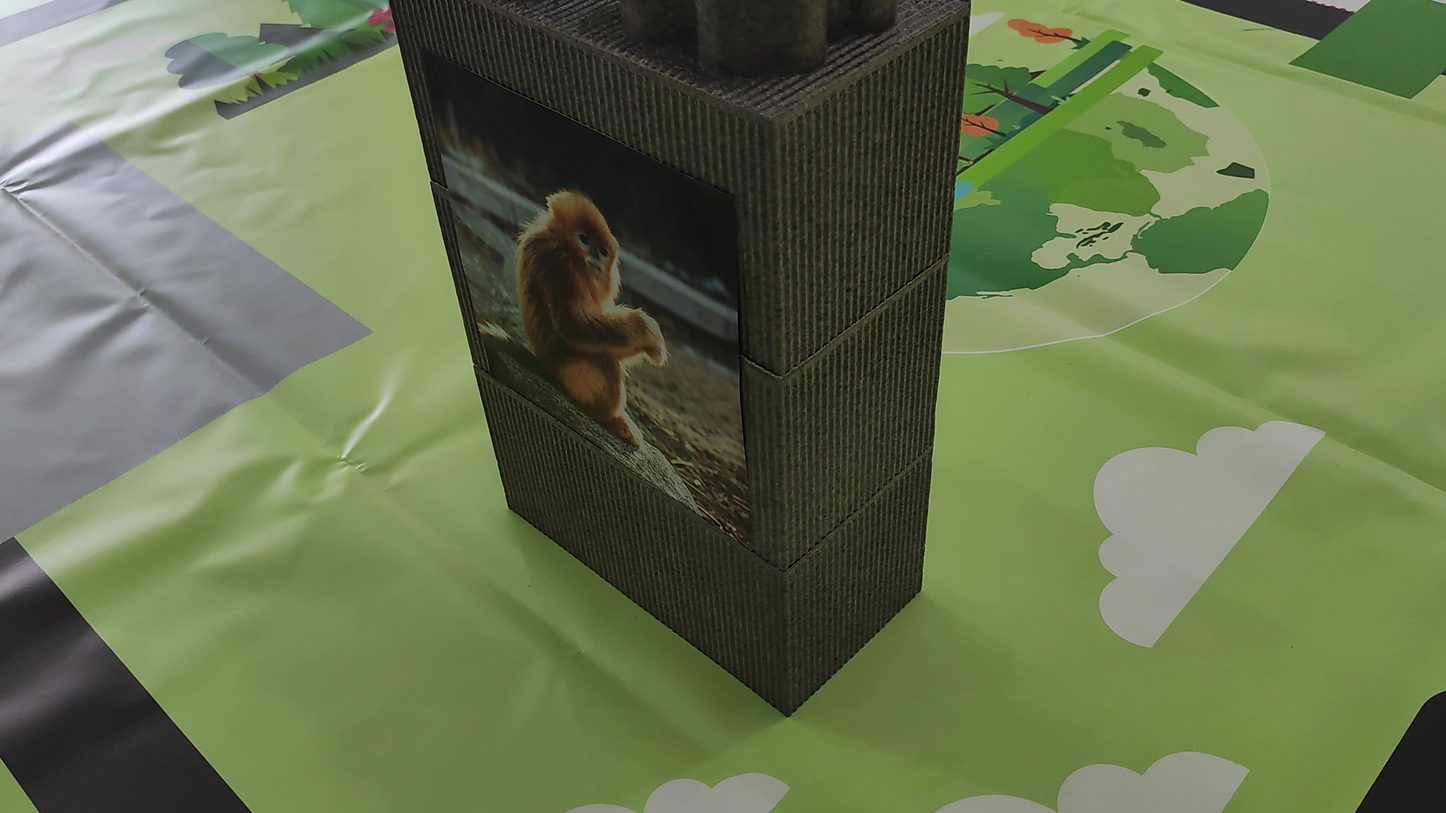monkey: (460, 157, 712, 454)
